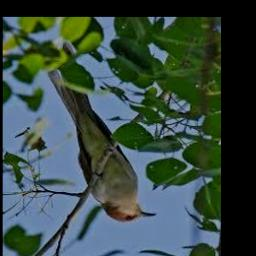Cuckoo: (46, 44, 157, 223)
